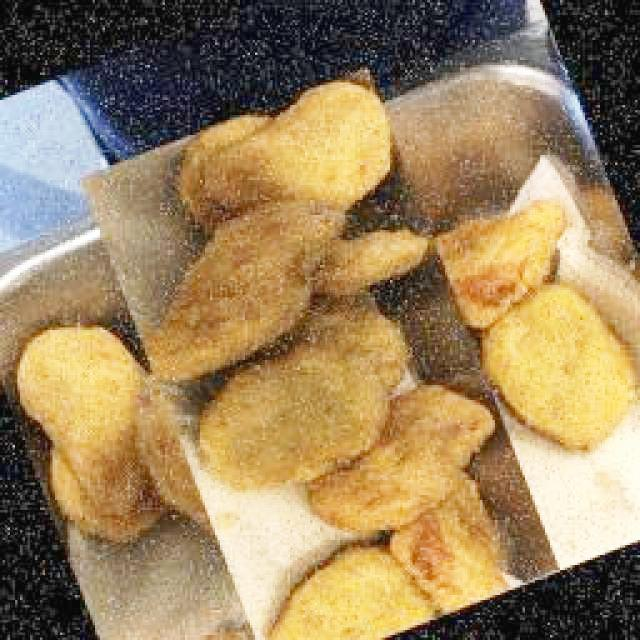chicken_nuggets: (149, 196, 345, 376), (198, 344, 386, 489), (15, 328, 154, 516), (201, 78, 392, 213), (313, 387, 491, 529), (480, 284, 634, 442)
